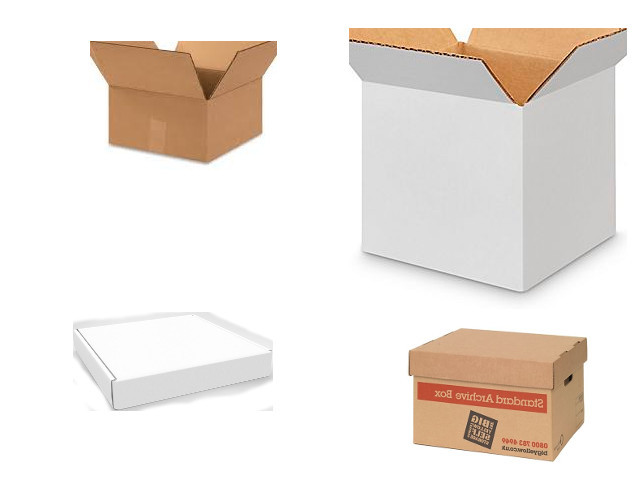cardboard: (361, 37, 617, 290), (410, 329, 586, 461), (75, 316, 272, 409), (107, 53, 261, 163)
